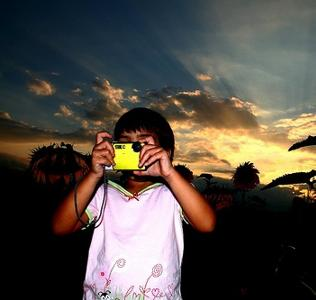person: (50, 109, 216, 300)
